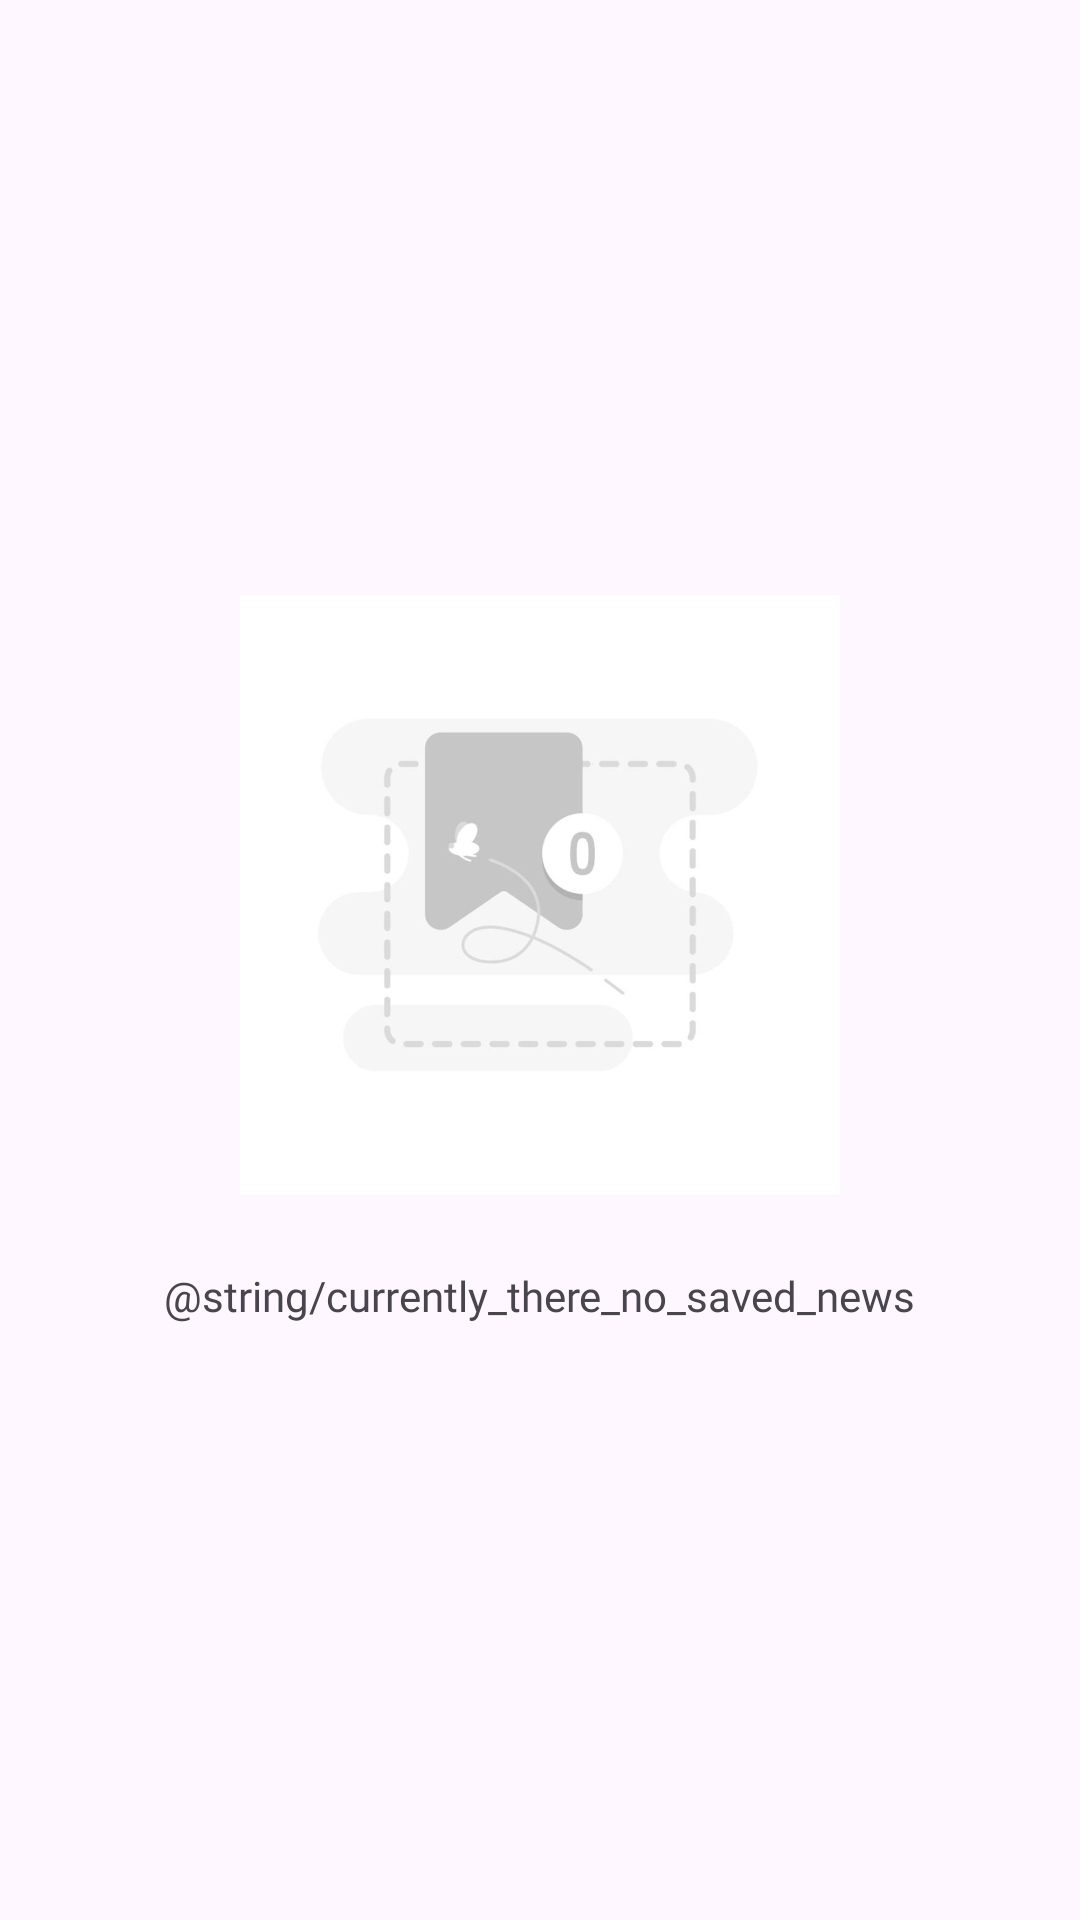

Locate icon controls on the screen. Image size 1080w x 1920h, boxes as box=[x1, y1, x2, y2].
no bookmark: box=[384, 732, 696, 1047]
